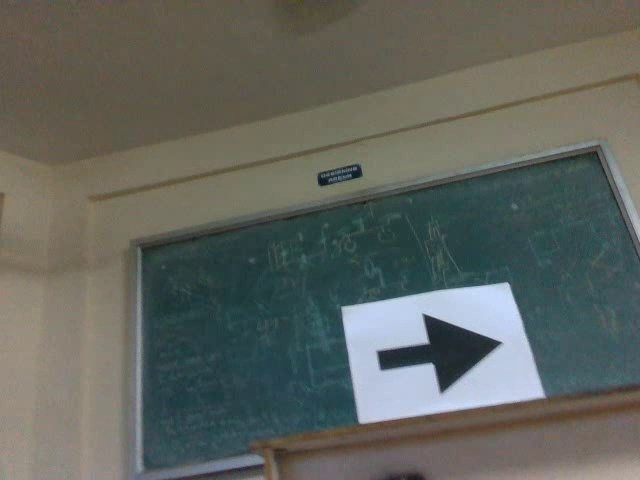Right: (373, 311, 506, 399)
